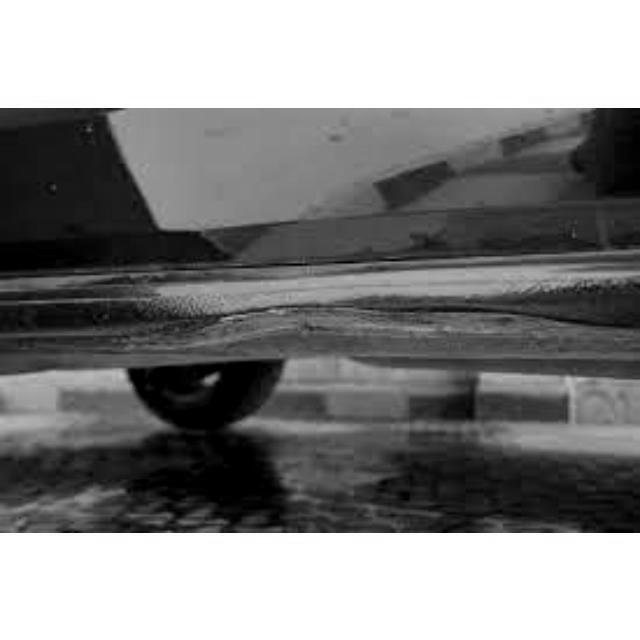Runningboard-Damage: (1, 245, 638, 377)
